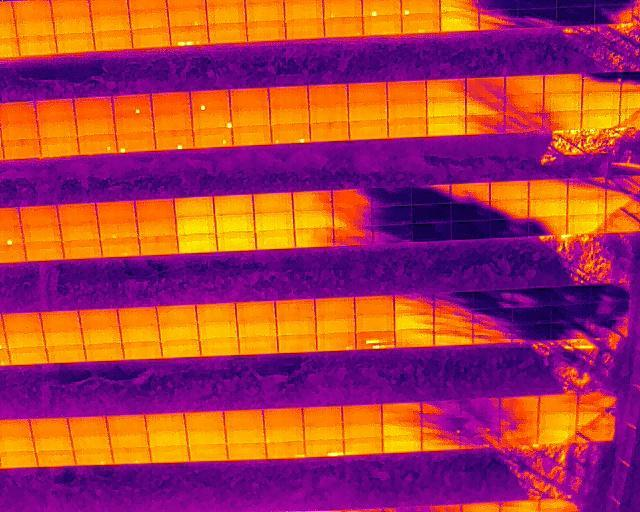Cell: (113, 95, 154, 117), (190, 89, 230, 110), (168, 6, 208, 26), (190, 111, 232, 129), (115, 134, 156, 152), (193, 129, 233, 147), (155, 131, 194, 149), (402, 15, 441, 32), (361, 0, 401, 16), (78, 138, 117, 153), (400, 0, 440, 14)
Cell-Multi: (271, 124, 311, 143), (168, 26, 207, 45), (355, 333, 396, 349)
No-Anomaly: (151, 90, 191, 118), (315, 297, 356, 320), (229, 88, 269, 111), (269, 86, 309, 108), (37, 99, 76, 121), (489, 180, 528, 202), (348, 83, 387, 105), (207, 23, 247, 44), (223, 411, 265, 431), (308, 85, 348, 106), (387, 83, 427, 104), (76, 97, 114, 119), (41, 137, 79, 159), (60, 222, 101, 242), (54, 34, 95, 54), (294, 208, 333, 229), (139, 234, 178, 255), (2, 312, 41, 333), (245, 2, 285, 22), (426, 116, 466, 136), (253, 192, 293, 212), (214, 194, 254, 214), (439, 12, 479, 32), (96, 201, 136, 221), (275, 299, 315, 319), (131, 29, 171, 49), (321, 18, 363, 37), (528, 179, 567, 199), (14, 17, 53, 37), (247, 21, 286, 41), (236, 300, 275, 320), (56, 203, 97, 222), (22, 223, 63, 242), (196, 303, 237, 322), (381, 402, 422, 421), (184, 411, 225, 430), (16, 36, 57, 55), (0, 102, 37, 123), (129, 9, 169, 28), (176, 233, 216, 252), (99, 238, 139, 257), (40, 312, 80, 331), (323, 0, 363, 19), (207, 5, 246, 24), (285, 19, 324, 38), (239, 337, 278, 356), (303, 404, 342, 423), (425, 99, 466, 117), (291, 190, 332, 208), (527, 199, 568, 217), (566, 199, 607, 217), (253, 213, 294, 231), (175, 216, 216, 234), (215, 233, 256, 251), (197, 322, 238, 340), (263, 408, 304, 426), (145, 413, 186, 431), (302, 423, 343, 441), (39, 119, 77, 138), (3, 140, 41, 159), (94, 32, 132, 51), (349, 123, 389, 141), (293, 229, 333, 247), (53, 16, 93, 34), (362, 16, 402, 34), (23, 242, 63, 260), (118, 309, 158, 327), (199, 339, 239, 357), (105, 415, 145, 433), (30, 418, 70, 436), (504, 76, 544, 94), (284, 0, 324, 18), (581, 110, 620, 128), (76, 119, 115, 137), (175, 197, 214, 215), (20, 205, 59, 223), (92, 13, 131, 31), (355, 297, 394, 315), (544, 76, 583, 94), (308, 106, 349, 123), (308, 124, 349, 141), (135, 200, 176, 217), (156, 307, 197, 324), (277, 335, 318, 352), (341, 404, 382, 421), (225, 443, 266, 460), (148, 446, 189, 463), (544, 94, 582, 112), (427, 80, 465, 98), (348, 106, 388, 123), (232, 128, 272, 145), (115, 117, 155, 134), (255, 231, 295, 248), (79, 312, 119, 329), (5, 333, 45, 350), (537, 395, 577, 412), (343, 438, 383, 455), (13, 0, 53, 17), (146, 430, 188, 446), (100, 221, 137, 239), (582, 92, 621, 109), (232, 110, 271, 127), (215, 215, 254, 232), (138, 218, 177, 235), (317, 334, 356, 351), (61, 242, 102, 258), (354, 316, 395, 332), (276, 320, 317, 336), (237, 321, 278, 337), (66, 416, 107, 432), (387, 104, 425, 121), (69, 433, 112, 448), (153, 117, 193, 133), (394, 314, 434, 330), (46, 346, 86, 362), (537, 412, 577, 428), (33, 435, 73, 451), (111, 447, 151, 463), (388, 122, 427, 138), (0, 123, 39, 139), (161, 340, 200, 356), (122, 342, 161, 358), (383, 436, 422, 452), (74, 448, 113, 464), (269, 109, 310, 124), (82, 328, 123, 343), (187, 445, 228, 460), (397, 331, 435, 347), (316, 319, 356, 334), (499, 396, 539, 411), (342, 422, 382, 437), (109, 432, 149, 447), (119, 327, 161, 341), (224, 430, 266, 444), (8, 349, 47, 364), (51, 0, 90, 15), (83, 345, 124, 359), (186, 431, 227, 445), (34, 450, 75, 464), (434, 332, 474, 346), (382, 422, 422, 436), (537, 429, 577, 443), (265, 428, 304, 442), (158, 326, 199, 339), (44, 332, 84, 345), (90, 0, 128, 12)
Shadowing: (567, 176, 607, 199), (514, 7, 557, 28), (410, 184, 451, 205), (556, 4, 595, 26), (450, 202, 490, 223), (472, 307, 512, 328), (371, 205, 412, 225), (435, 291, 474, 312), (450, 183, 491, 202), (464, 78, 505, 97), (489, 200, 529, 219), (527, 217, 567, 236), (577, 393, 617, 412), (512, 308, 554, 326), (552, 321, 594, 339), (466, 115, 505, 134), (554, 285, 593, 304), (370, 187, 411, 205), (488, 219, 529, 237), (505, 114, 543, 133), (595, 4, 633, 23), (478, 10, 516, 29), (504, 95, 544, 113), (566, 215, 606, 233), (450, 221, 490, 239), (512, 290, 554, 307), (576, 412, 618, 429), (458, 414, 500, 431), (459, 432, 501, 449), (466, 97, 505, 115), (332, 189, 371, 207), (412, 205, 451, 223), (411, 224, 450, 242), (332, 227, 371, 245), (473, 290, 512, 308), (433, 313, 472, 331), (582, 73, 621, 91), (371, 227, 412, 244), (394, 296, 435, 313), (553, 304, 594, 321), (498, 429, 538, 446), (332, 208, 369, 226), (592, 282, 629, 300), (543, 112, 582, 129), (512, 326, 553, 342), (459, 398, 500, 414), (594, 320, 628, 339), (421, 401, 459, 418), (421, 419, 459, 436), (473, 329, 512, 345), (499, 412, 538, 428), (592, 301, 628, 318), (575, 429, 618, 443), (421, 437, 459, 452)
Unclassified: (265, 444, 305, 459), (305, 442, 345, 456)
